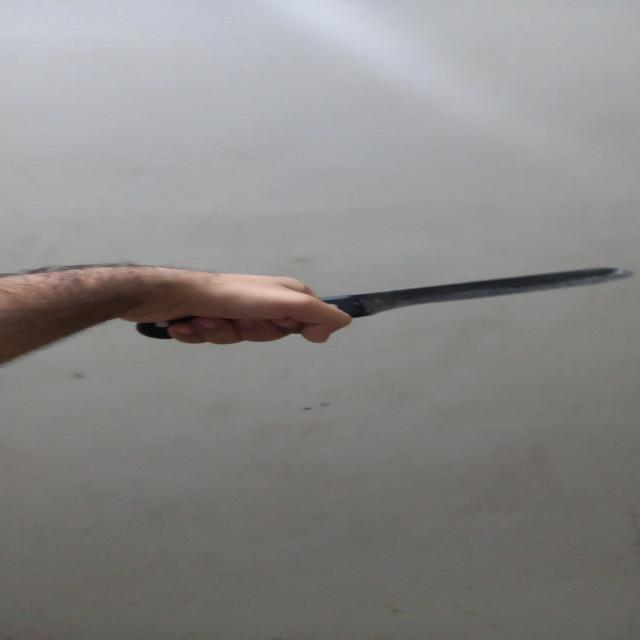Knife: (138, 267, 634, 339)
Person: (0, 266, 355, 368)
